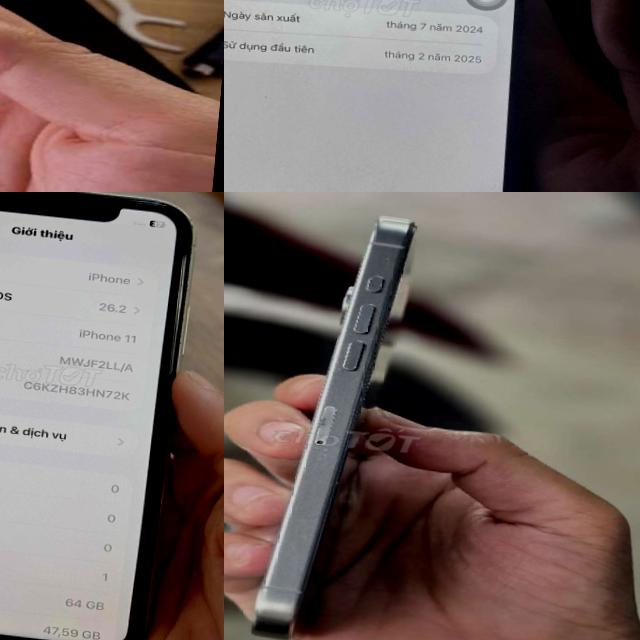gen_11: (0, 192, 201, 640)
gen_15: (249, 200, 415, 640), (224, 0, 560, 192)
